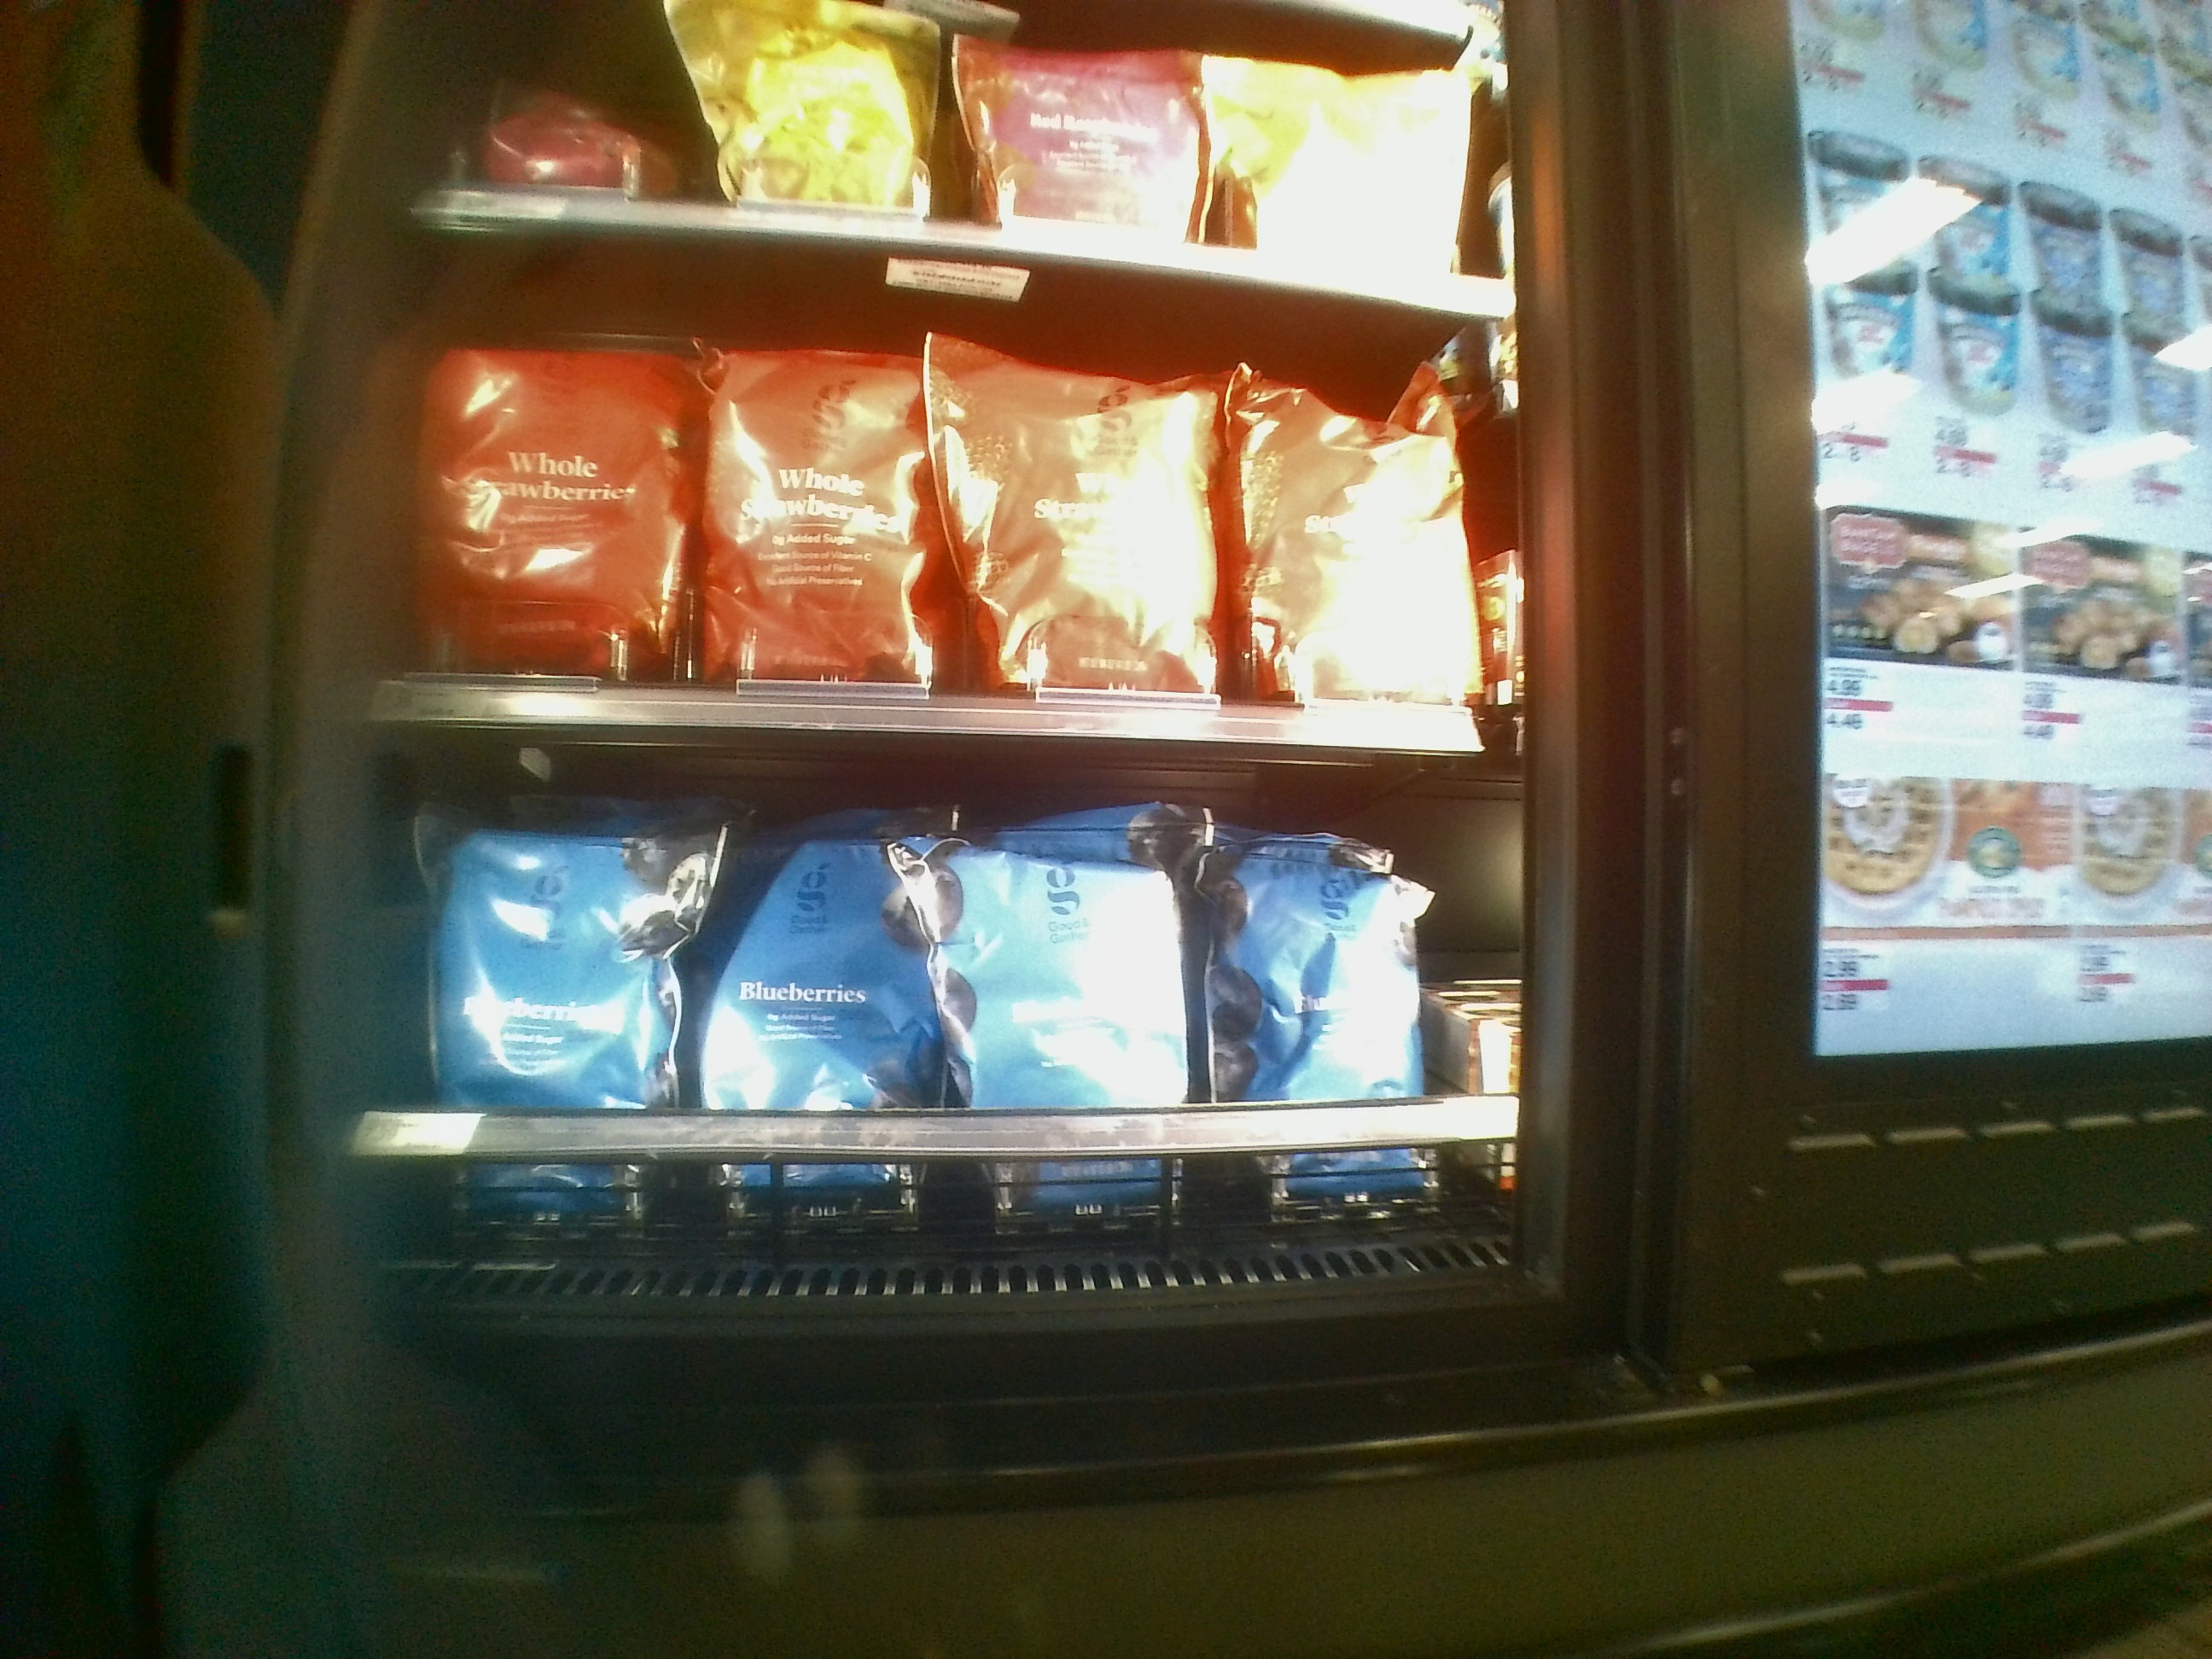shelf: (362, 730, 1524, 1279), (397, 268, 1503, 748)
